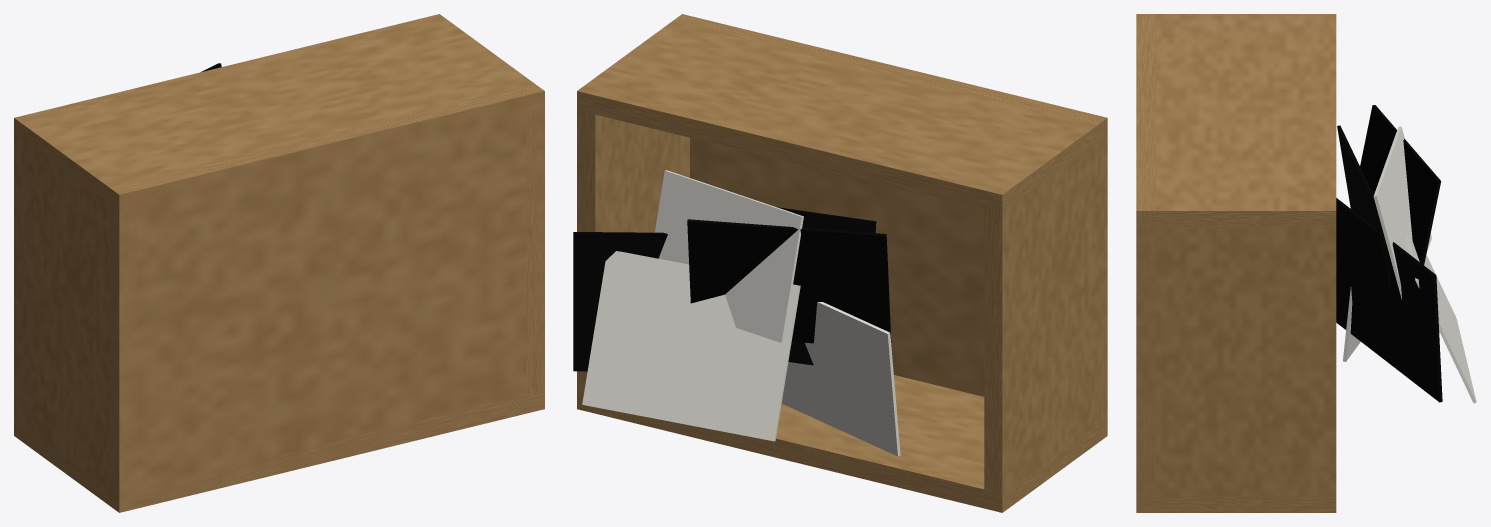
File: PhotoBox.glb
The picture shows the model from 3 angles, left to right: view 1: azimuth 30°, elevation 25°; view 2: azimuth 150°, elevation 25°; view 3: azimuth 270°, elevation 25°; orthographic projection. The views are drawn at different scales.
Visible parts, largest first — view 1: Bottom, Front, Left, Back, Right; view 2: Front, Left, Bottom, Photo_5, Back, Photo_4, Photo_1, Right, Photo_3, Photo_2, Photo_0; view 3: Right, Front, Photo_2, Bottom, Photo_4, Back, Photo_3, Photo_0, Photo_5, Photo_1.
Part boxes in pixels (x1,y1,x2,y2): Bottom: (109, 83, 544, 512); Front: (14, 14, 544, 213); Left: (14, 134, 137, 494); Back: (14, 390, 544, 512); Right: (526, 108, 544, 397); Front: (577, 22, 1107, 213); Left: (984, 134, 1107, 495); Bottom: (672, 14, 1107, 441); Photo_5: (582, 251, 800, 441); Back: (577, 375, 1107, 512); Photo_4: (687, 219, 891, 343); Photo_1: (781, 302, 900, 456); Right: (577, 108, 689, 394); Photo_3: (654, 170, 803, 342); Photo_2: (573, 232, 667, 371); Photo_0: (777, 207, 876, 365); Right: (1136, 226, 1336, 497); Front: (1136, 14, 1336, 229); Photo_2: (1336, 198, 1442, 402); Bottom: (1136, 14, 1156, 512); Photo_4: (1360, 105, 1441, 264); Back: (1136, 495, 1336, 512); Photo_3: (1373, 126, 1431, 299); Photo_0: (1337, 125, 1391, 297); Photo_5: (1405, 232, 1476, 403); Photo_1: (1343, 287, 1360, 361).
Size of the model in its own units: 0.28 by 0.2 by 0.2043.
3 materials, 2 textured.
